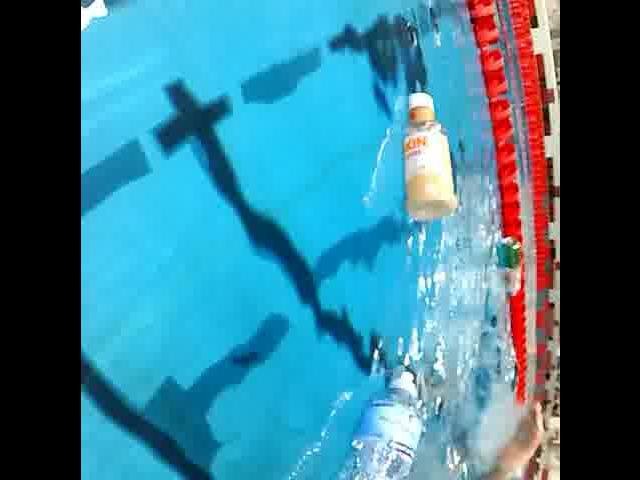Bottle: (281, 366, 422, 480), (393, 86, 458, 230)
Can: (496, 231, 522, 273)
